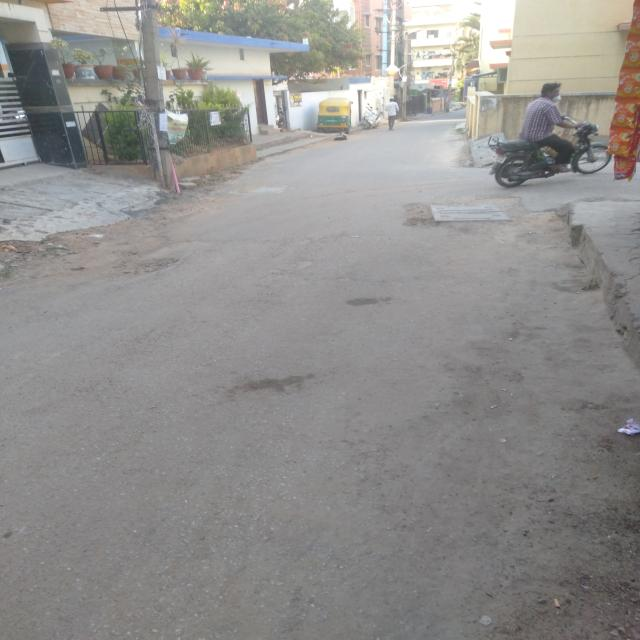Autorickshaw: (310, 90, 358, 140)
Bike: (477, 104, 619, 180), (358, 98, 392, 132)
